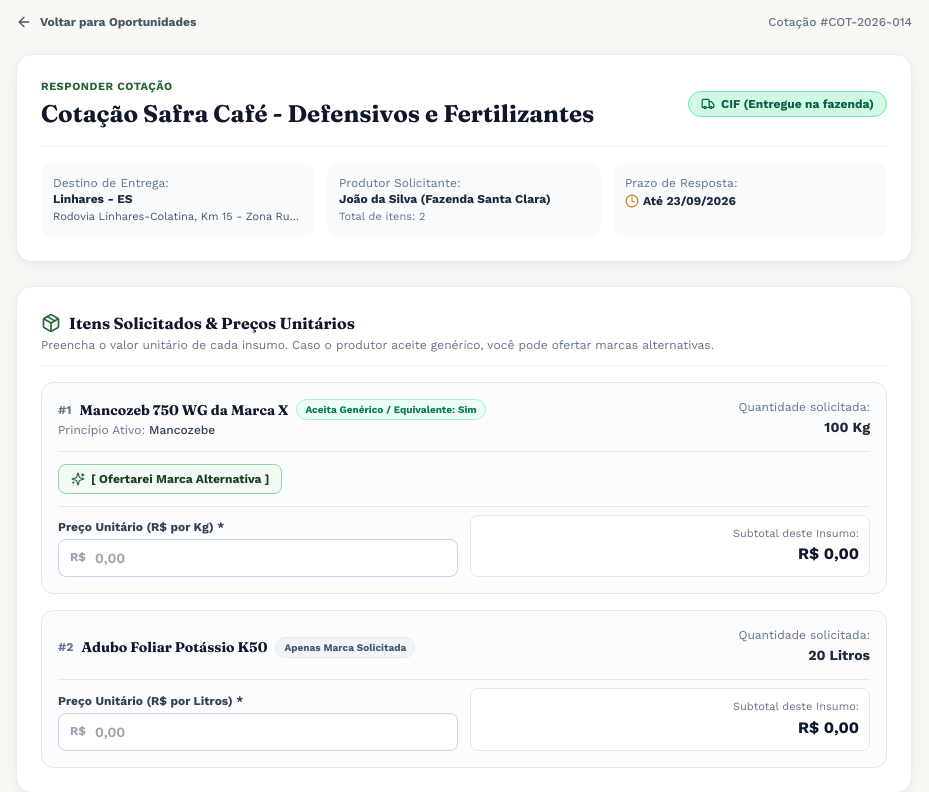
Scenario: US14 – Envio de Proposta e Oferta de Genéricos/Equivalentes (SubmitBidPage) › Cenário 2: Oferta de produto equivalente (Quando o produtor aceita genérico) › deve permitir cancelar a marca alternativa e retornar à marca original
// Abre alternativa
Click the button with test id "btn-offer-alternative-item-generic-1" at (170, 478), box [58, 464, 282, 494]
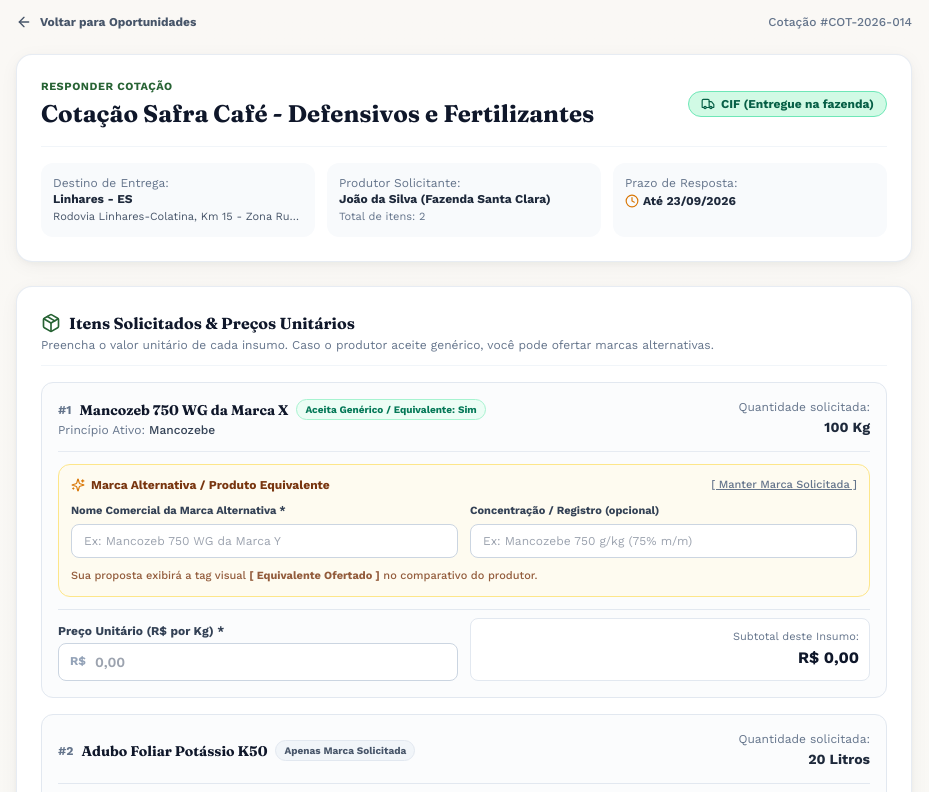
Check: the field with test id "input-brand-name-item-generic-1" is shown, box [71, 524, 458, 558]
// Clica em cancelar alternativa
Click the button with test id "btn-cancel-alternative-item-generic-1" at (784, 485), box [711, 476, 857, 493]
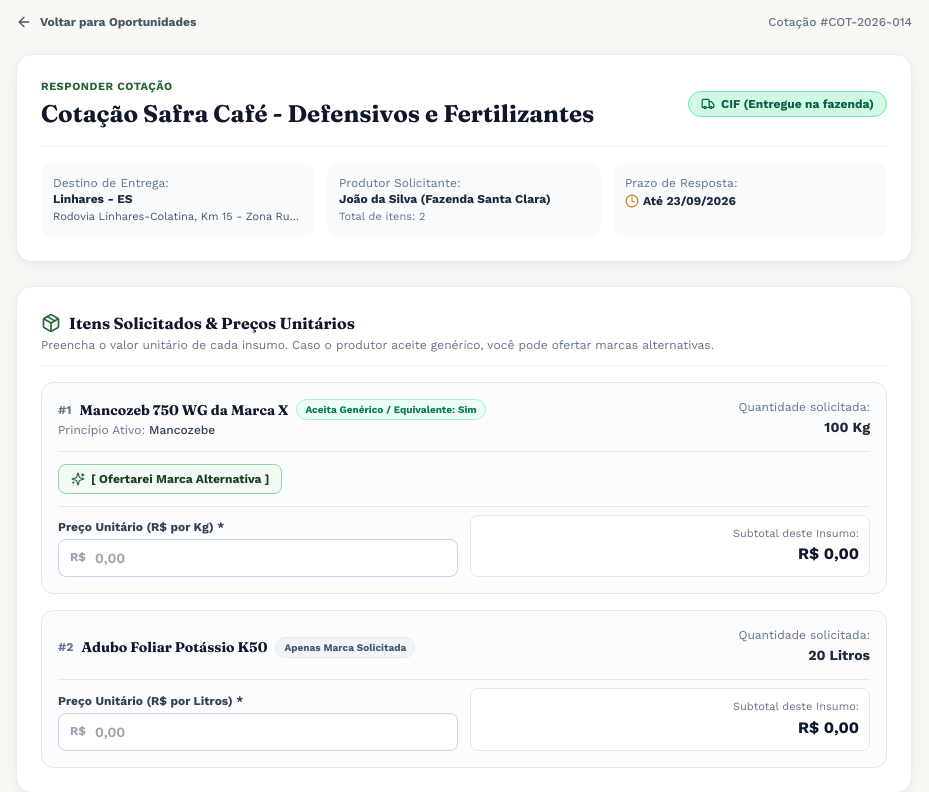
Check: the element with test id "alternative-brand-container-item-generic-1" is gone
Check: the button with test id "btn-offer-alternative-item-generic-1" is shown, box [58, 464, 282, 494]
